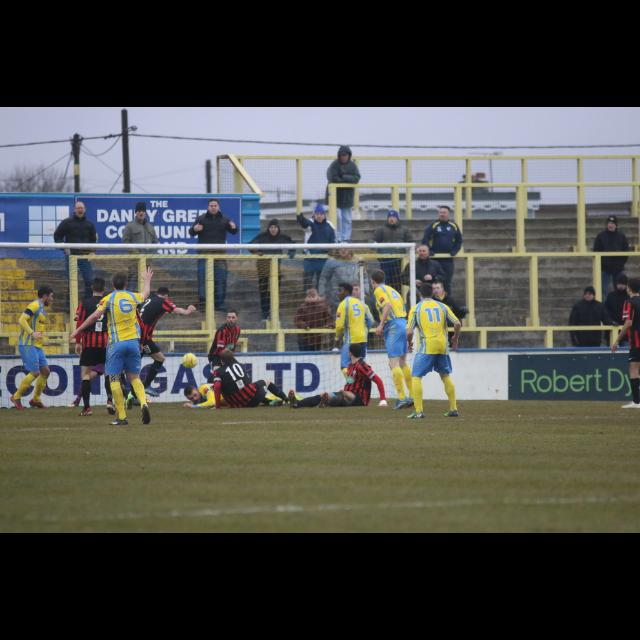Football: (181, 353, 199, 369)
